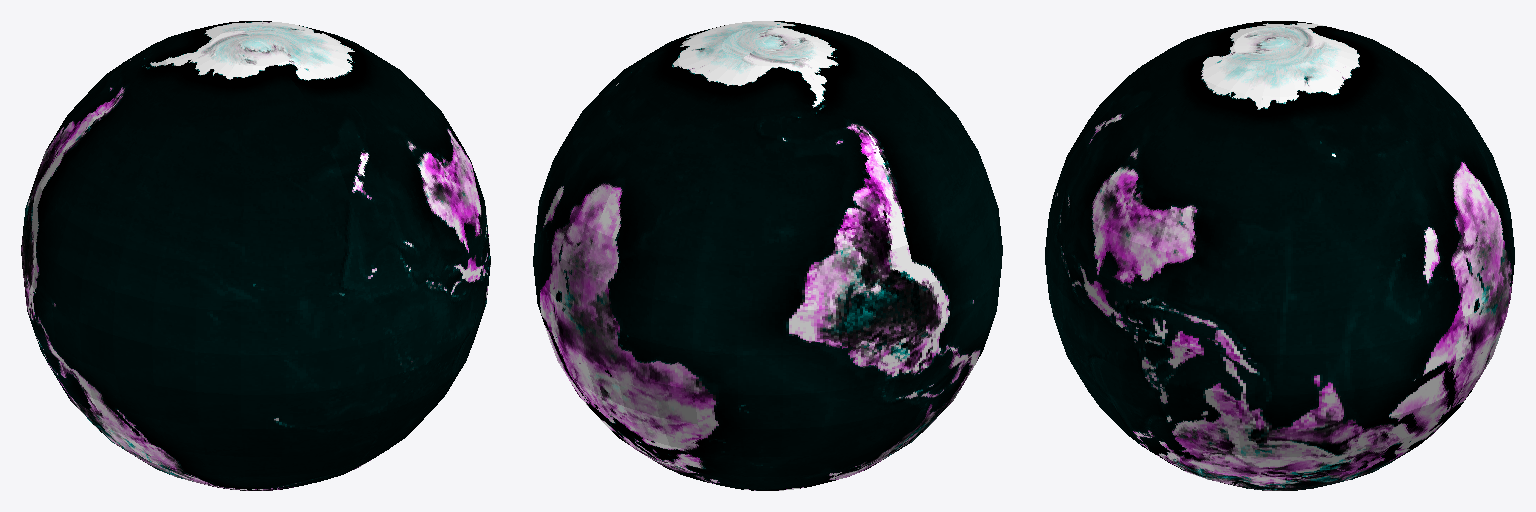
3 renders of one model, left to right at view 1: azimuth 30°, elevation 25°; view 2: azimuth 150°, elevation 25°; view 3: azimuth 270°, elevation 25°, orthographic.
Parts seen in each view (by area): view 1: Sphere; view 2: Sphere; view 3: Sphere.
Part boxes in pixels (left/top/right/bottom): Sphere: left=21, top=21, right=490, bottom=490; Sphere: left=533, top=21, right=1002, bottom=490; Sphere: left=1045, top=21, right=1514, bottom=490.
Size of the model in its own units: 10.07 by 10.07 by 10.07.
1 materials, 1 textured.